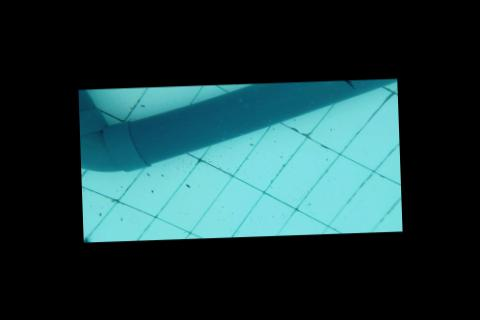keretakan: (340, 79, 356, 90)
